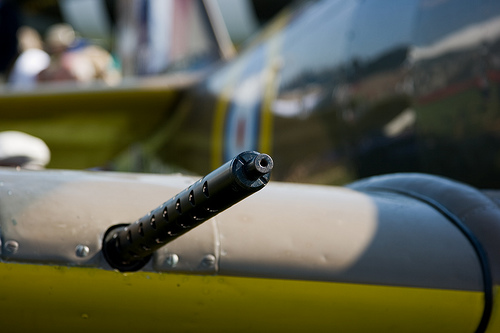rifle: (79, 154, 303, 287)
